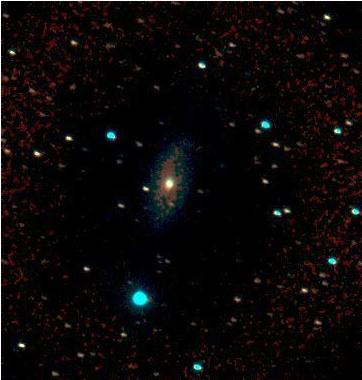star: (152, 186, 182, 216)
